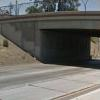Bridge: (4, 7, 94, 54)
